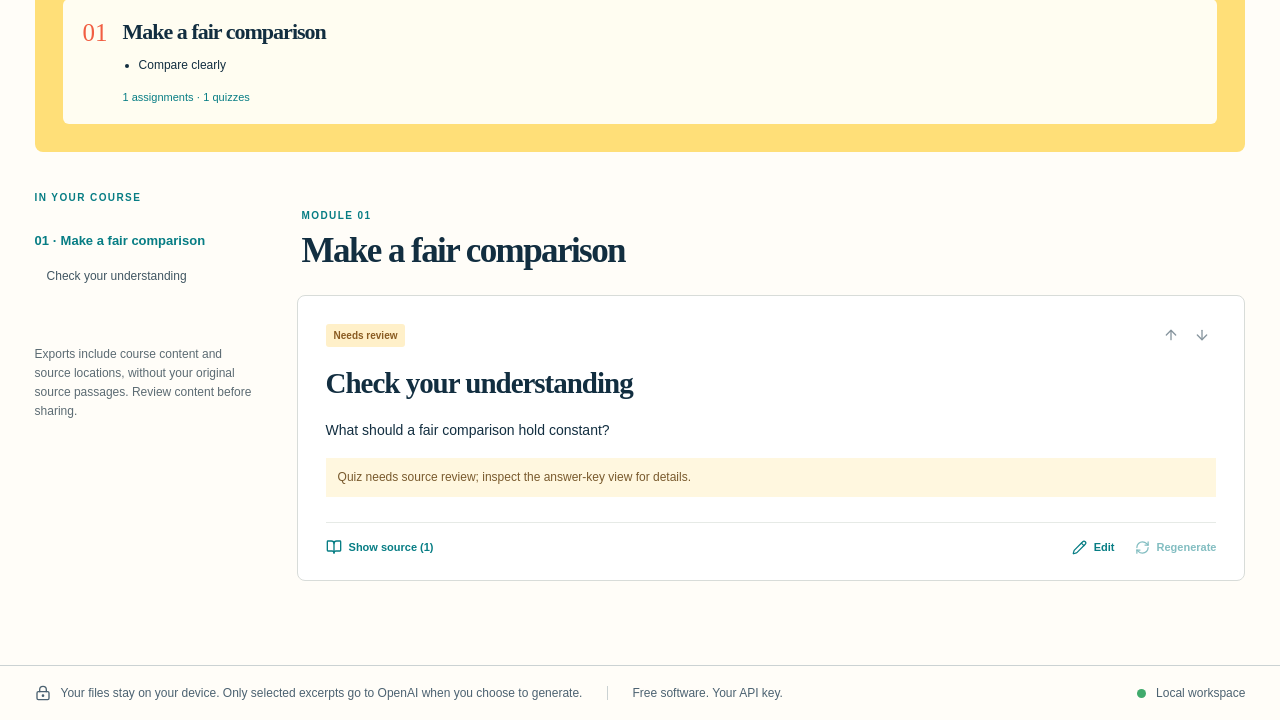
course review safeguards › resumes a saved course and prevents app navigation from discarding unsaved edits
The image size is (1280, 720).
(page scrolled)
Click the button "Edit": (1093, 547) [1072, 539, 1115, 555]
(page scrolled)
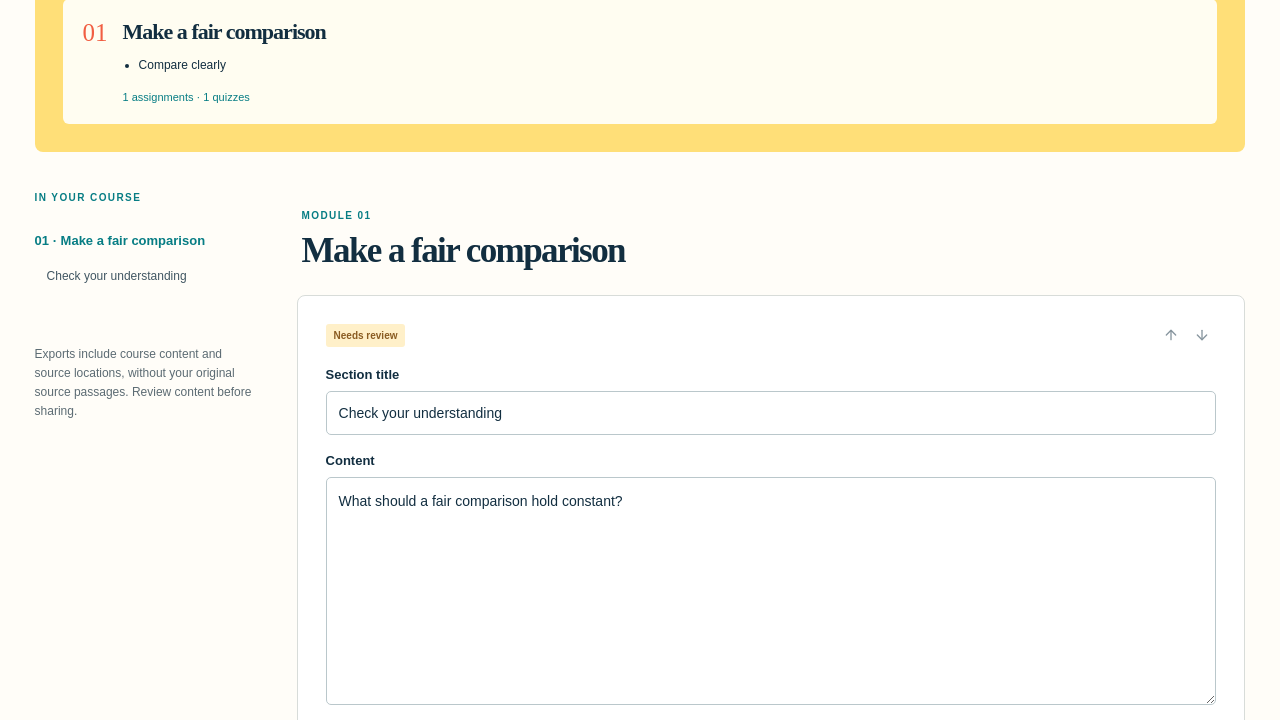
Replace the text in the text box labelled "Content" with "Keep this unsaved thought.": (771, 591) [326, 478, 1216, 705]
(page scrolled)
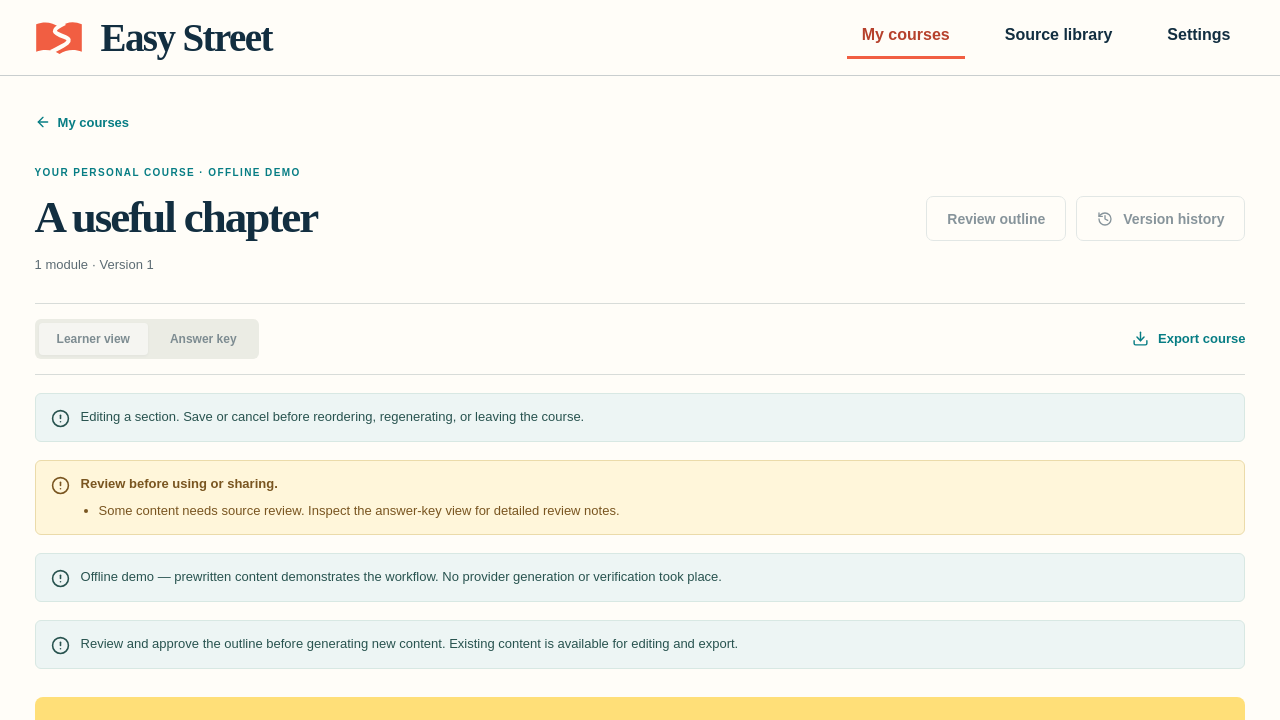
Click the button "Source library": (1058, 38) [990, 16, 1127, 59]
(page scrolled)
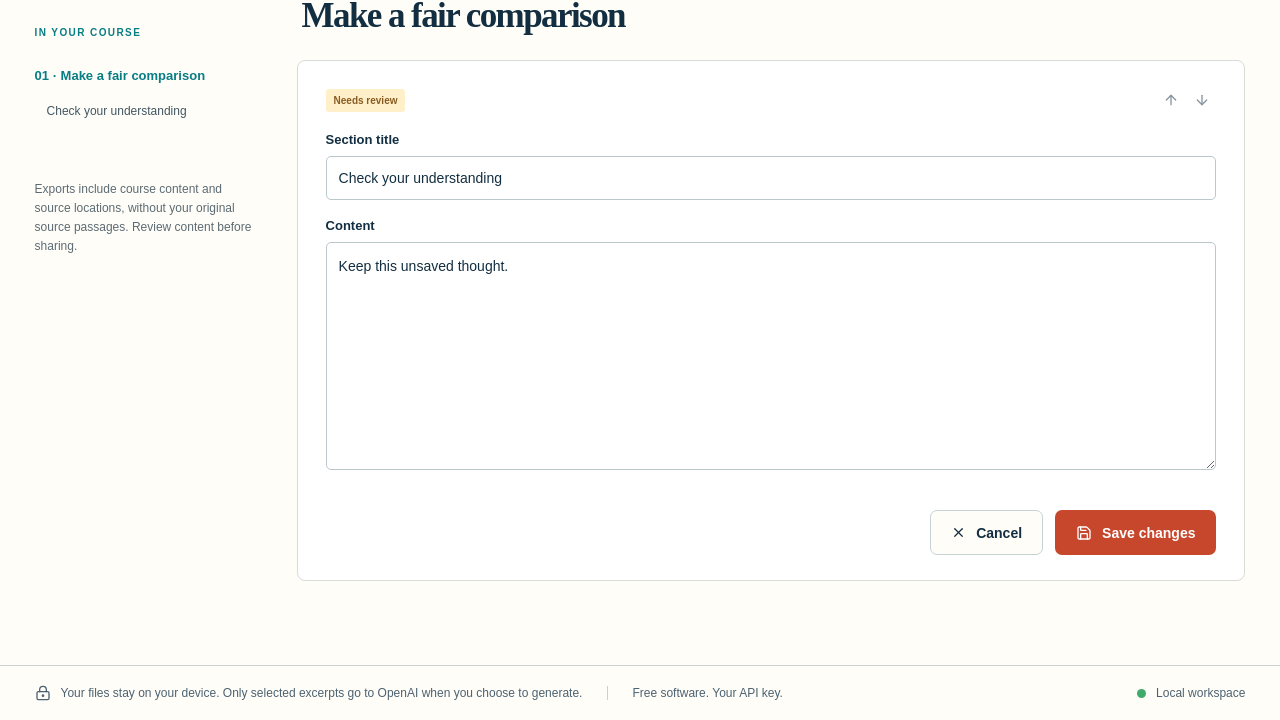
Click the button "Cancel": (987, 532) [930, 510, 1043, 555]
(page scrolled)
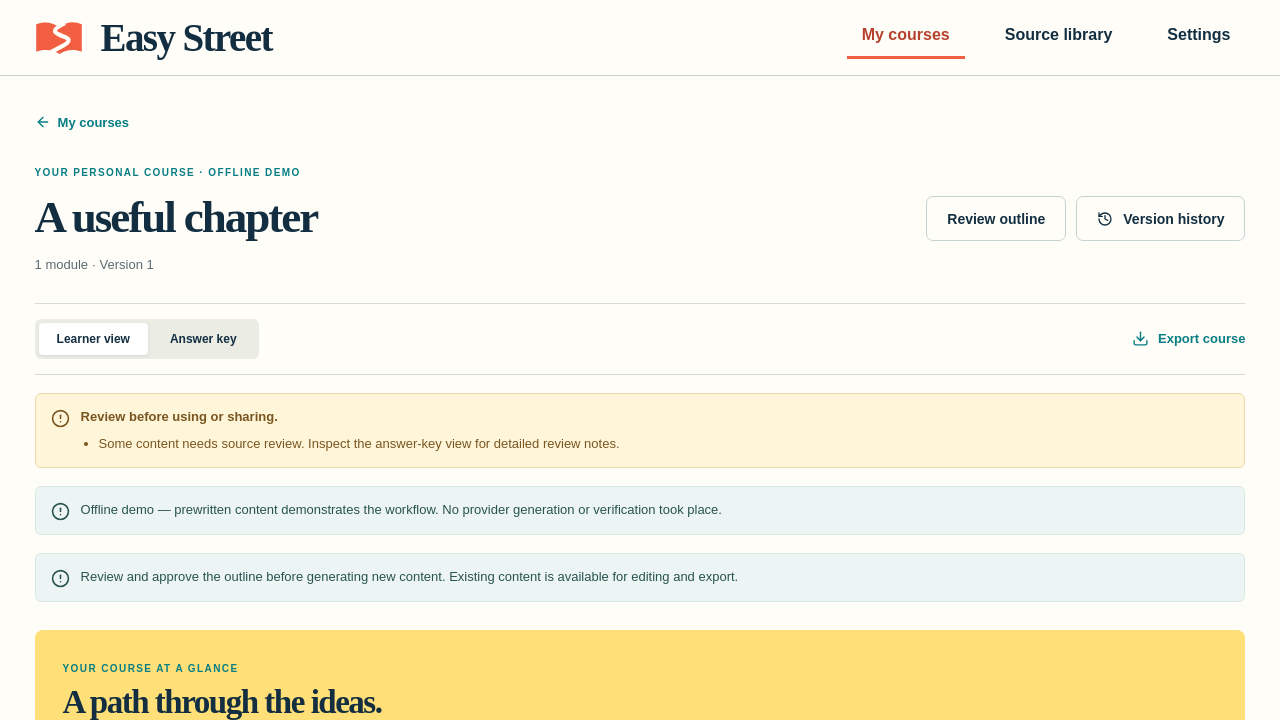
Click the button "Source library": (1058, 38) [990, 16, 1127, 59]
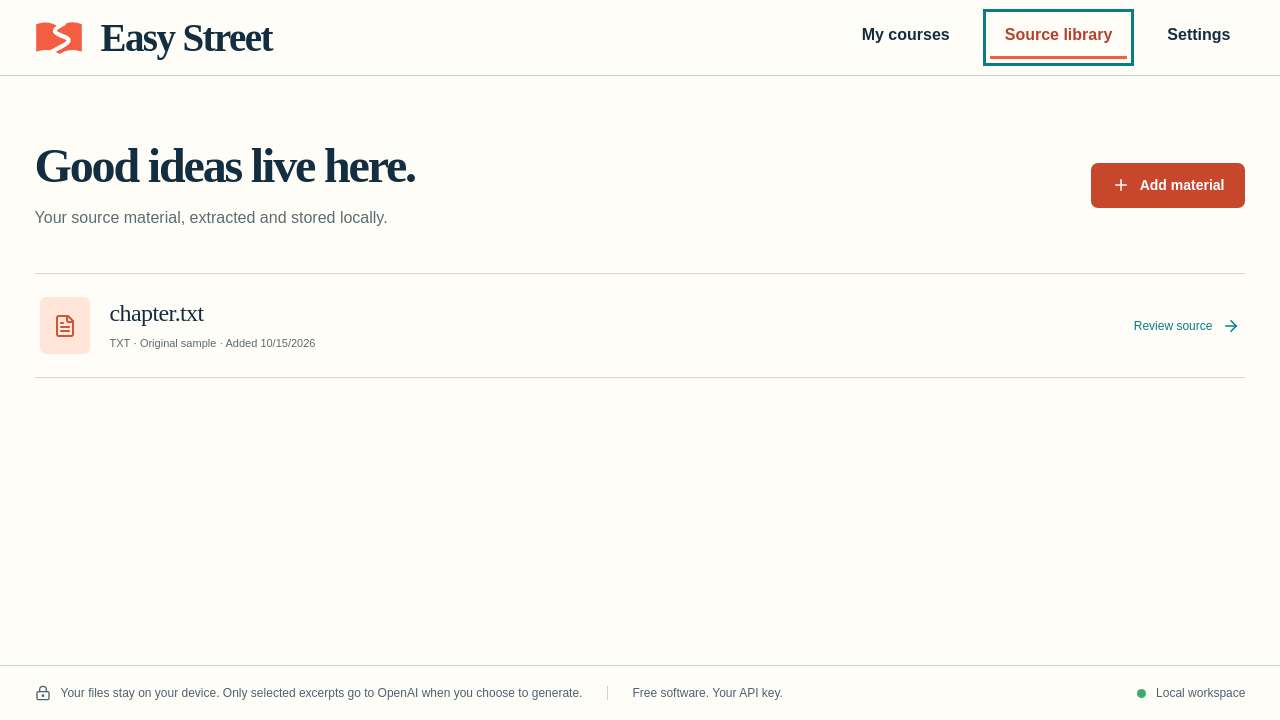
expect the heading "Good ideas live here." is shown: met, box [34, 139, 415, 193]
